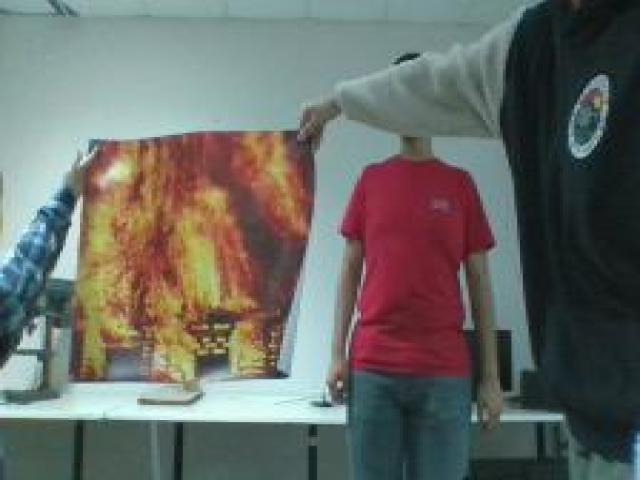fire-poster: (69, 126, 320, 386)
